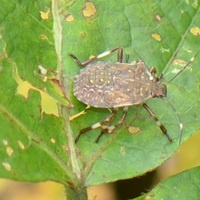insect: (74, 47, 199, 107)
